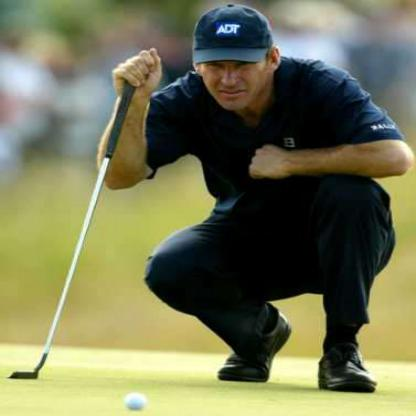face: (201, 17, 272, 114)
